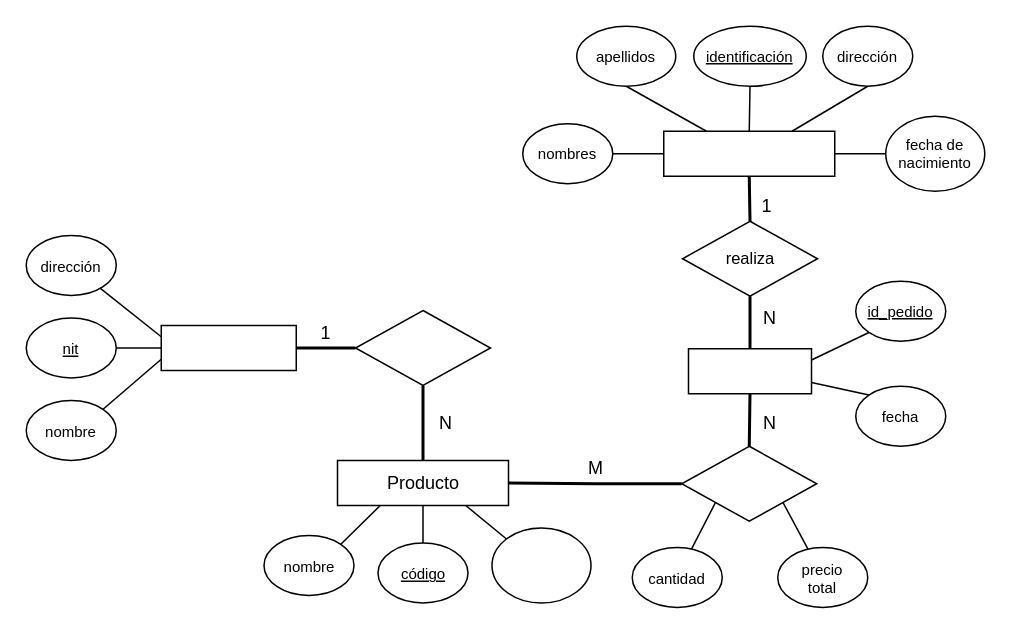
This 1011x635 diagram has some shape labels left out. The box of each missing label's shape, as (x1, y1, x2, y2) in pixels:
Cliente: (662, 130, 835, 176)
incluye: (680, 445, 817, 521)
Pedido: (687, 347, 812, 394)
precio unitario: (490, 526, 591, 603)
Proveedor: (160, 324, 296, 370)
suministra: (354, 309, 490, 386)
